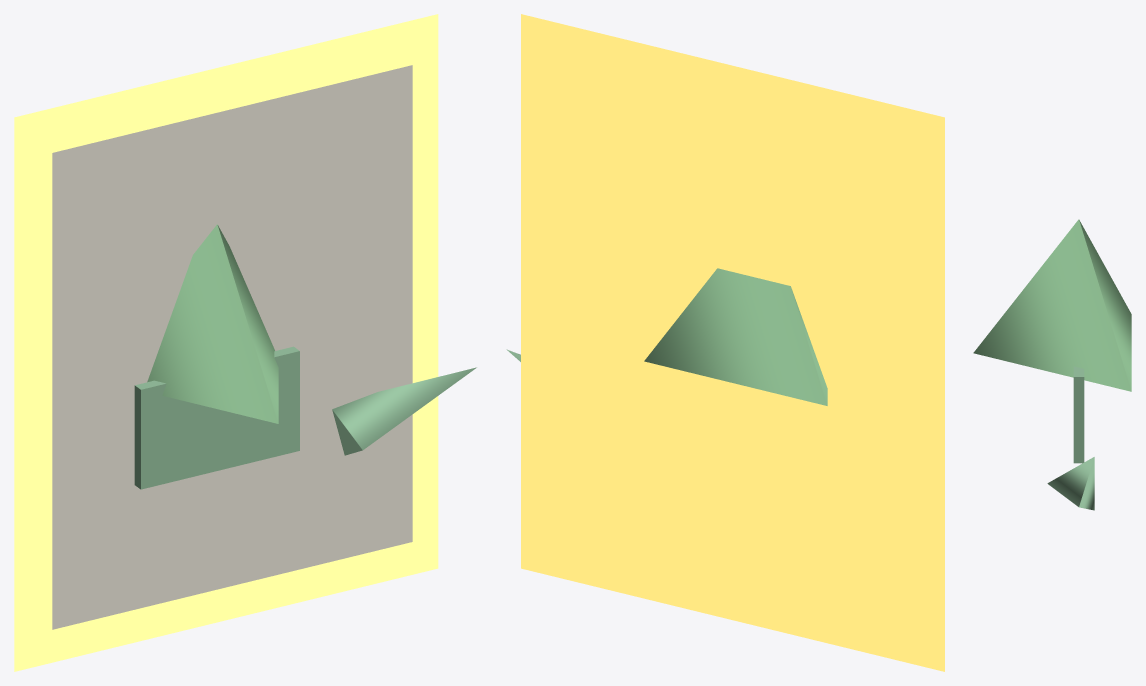
File: portrait-dragon-lit.gltf
3 renders of one model, left to right at view 1: azimuth 30°, elevation 25°; view 2: azimuth 150°, elevation 25°; view 3: azimuth 270°, elevation 25°, orthographic. The views are drawn at different scales.
Parts seen in each view (by area): view 1: Mount, Frame, Wing, Body, Tail; view 2: Frame, Wing; view 3: Wing, Tail, Body.
Boxes of the visible parts, <box> form: Mount: <box>52,65,412,629</box>; Frame: <box>14,14,438,671</box>; Wing: <box>147,224,278,423</box>; Body: <box>134,346,299,489</box>; Tail: <box>332,367,476,455</box>; Frame: <box>521,14,944,671</box>; Wing: <box>644,268,827,405</box>; Wing: <box>973,219,1131,391</box>; Tail: <box>1047,457,1094,510</box>; Body: <box>1073,366,1084,463</box>.
Bounding box in the file's own units: 0.8511 × 1 × 0.3.
